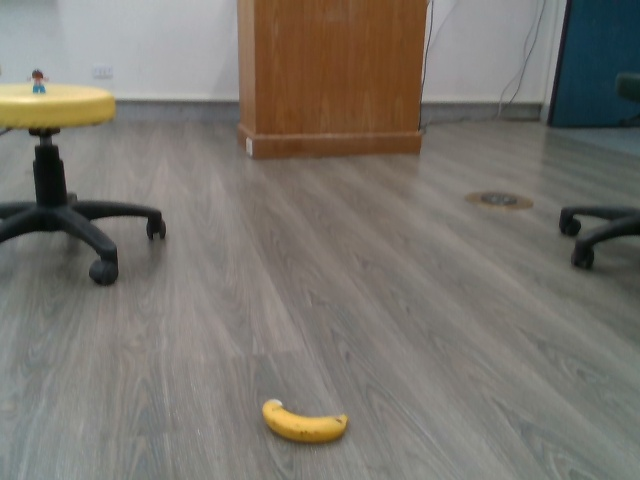banana: (258, 396, 349, 446)
